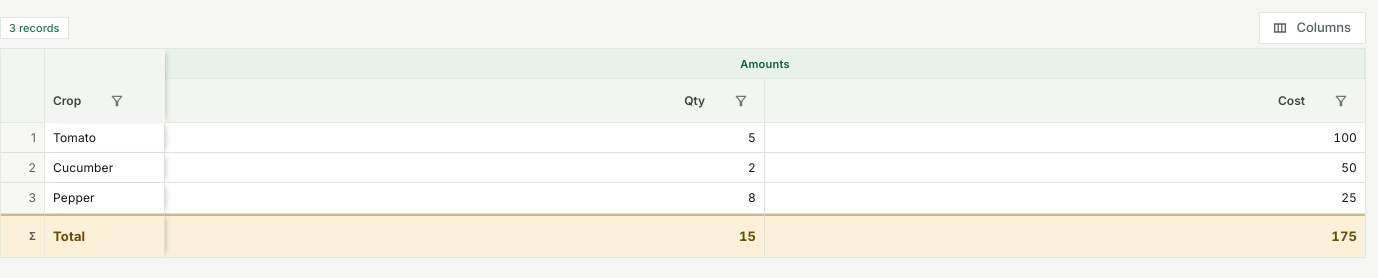
it: selecting a range shows count, sum and average like the Excel status bar
Press the mouse on the cell "5" at (465, 138), box [165,123,765,153]
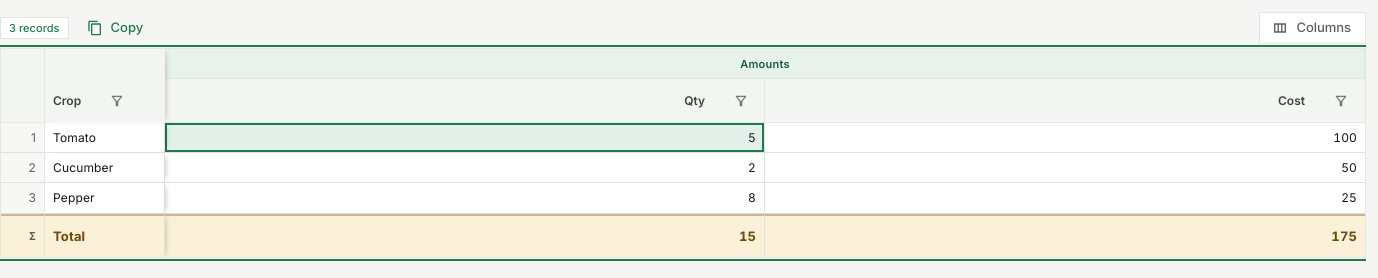
Press the mouse on the cell "8" at (465, 198), box [165,183,765,214]
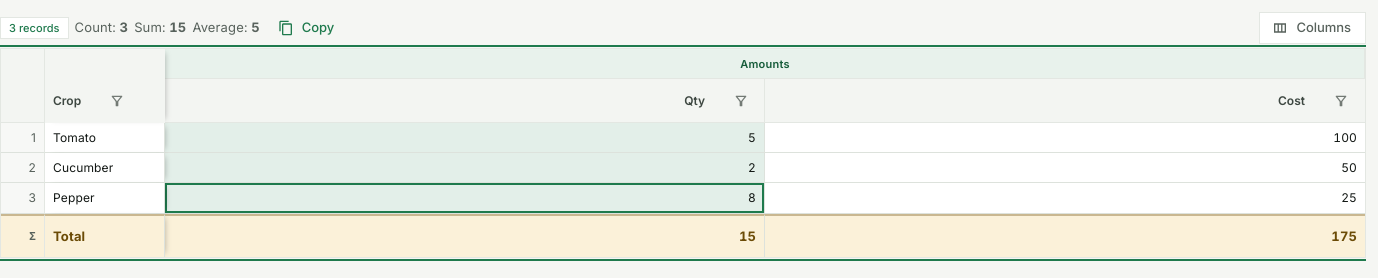
Check: the element showing "Sum: 15" is shown, box [134,18,186,38]
Check: the element showing "Average: 5" is shown, box [192,18,260,38]
